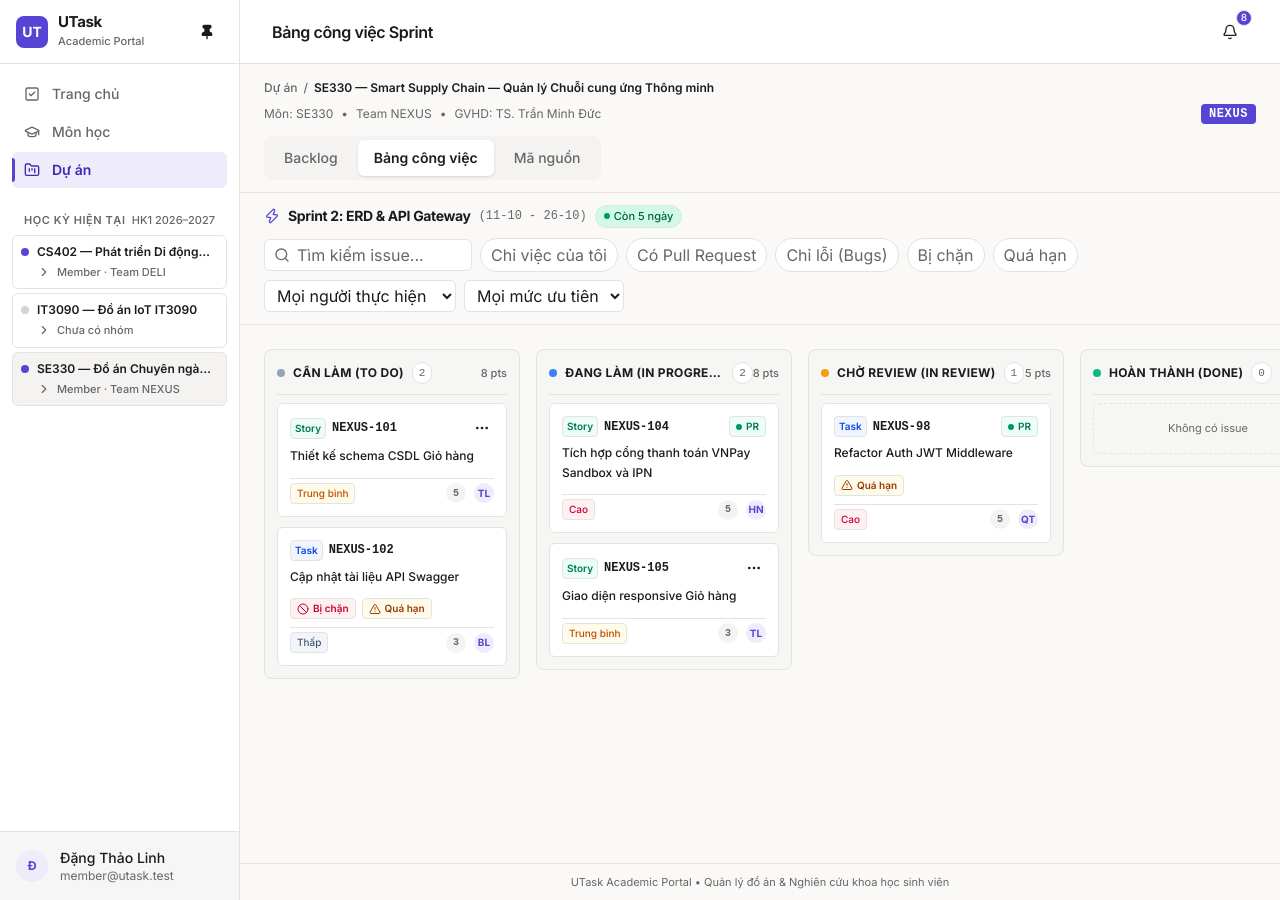
Kanban board: who may do what › gives a member menus only on their own tasks, with no ordering items
Expected: the text "NEXUS-104" is shown, [604,418,669,434]
Expected: the button named "Thao tác cho NEXUS-105" is shown, [742,556,766,580]
Click the button named "Thao tác cho NEXUS-101" at [482, 428], box [470,416,494,440]
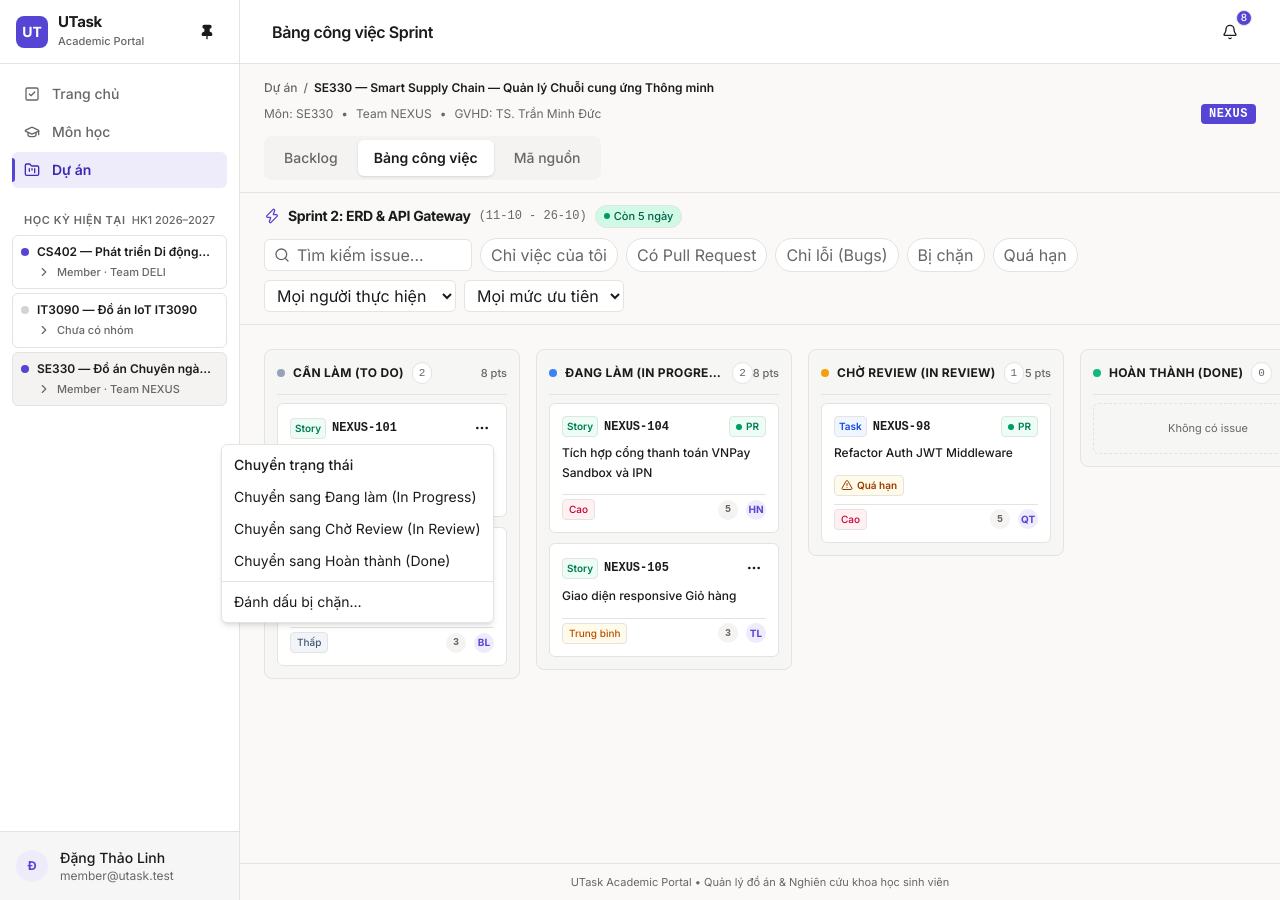
Result: the menu item "Chuyển sang Đang làm (In Progress)" is shown at [234,488,477,505]
